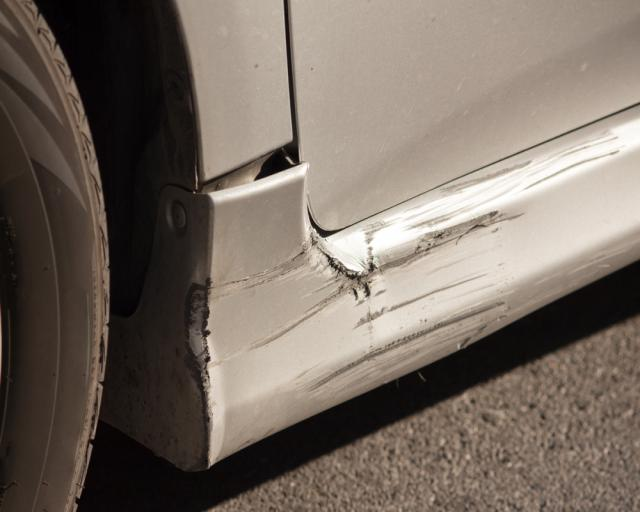scratch: (185, 127, 640, 402)
